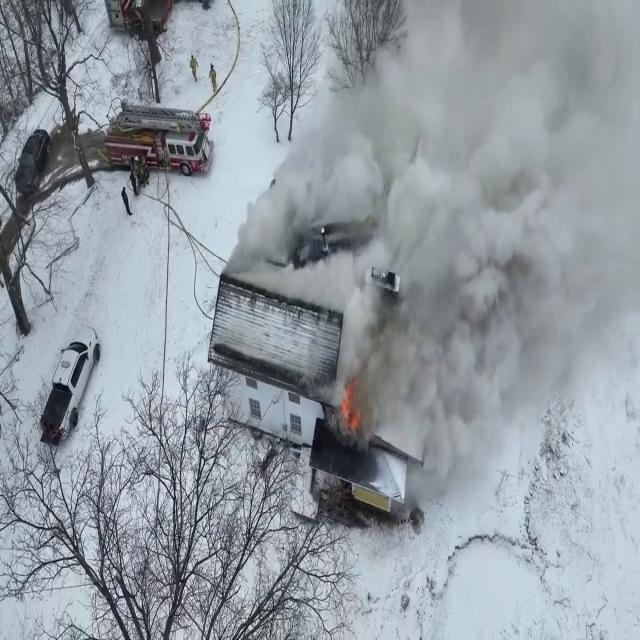Smoke: (255, 0, 638, 440)
